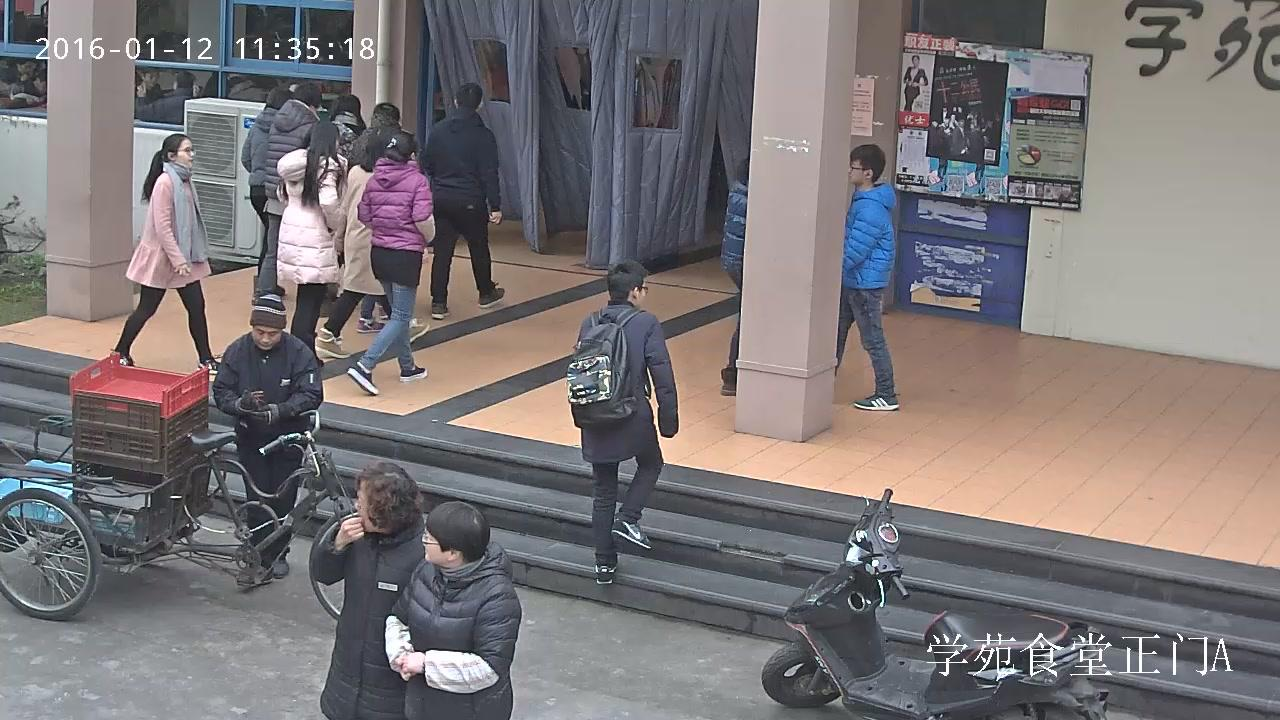person: (565, 260, 679, 582), (211, 293, 323, 585), (384, 500, 521, 720), (313, 461, 426, 720), (109, 132, 223, 375), (314, 132, 429, 358), (347, 132, 435, 395), (422, 81, 505, 320), (275, 122, 349, 366), (834, 142, 900, 411), (251, 82, 324, 307), (241, 85, 295, 296), (721, 156, 750, 395), (348, 101, 419, 171), (136, 71, 203, 124), (325, 93, 368, 169), (903, 55, 929, 112)
